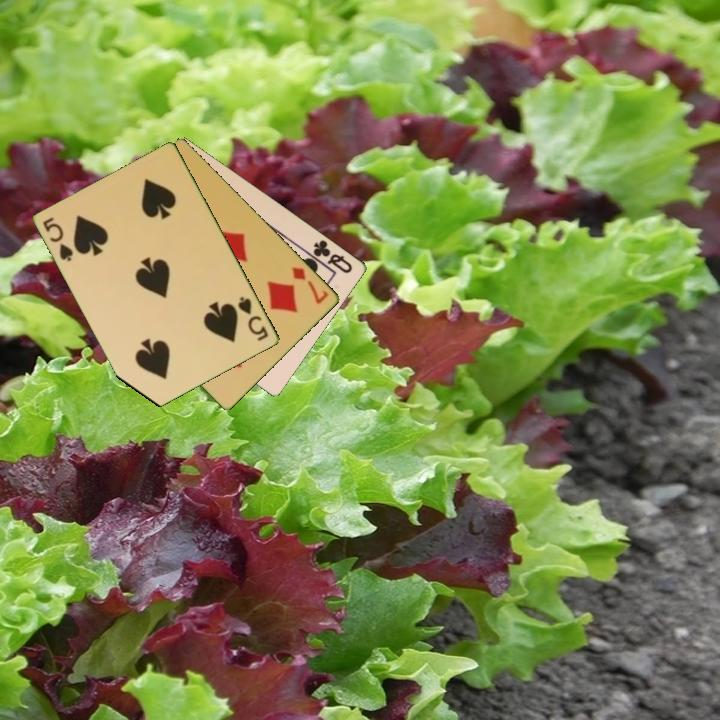5s: (235, 293, 272, 344), (40, 214, 77, 265)
7d: (289, 263, 331, 307)
Qc: (304, 236, 356, 276)
